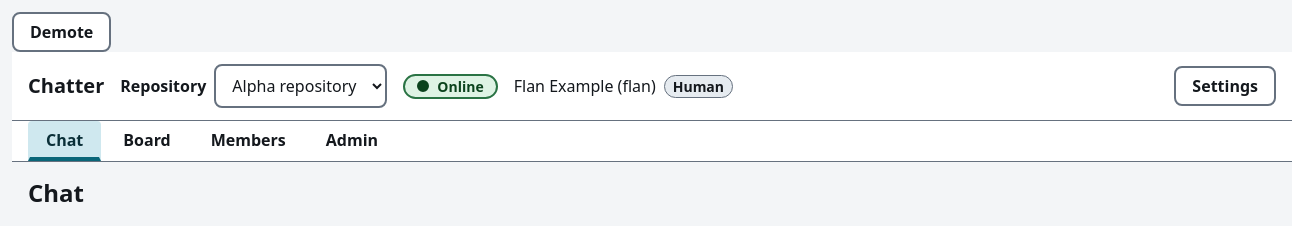
Scenario: signed-in shell: primary navigation and aria-current › falls back to the first view when the open one stops being available to the member
Click the button "Admin": (352, 141) 308,121 -> 396,161
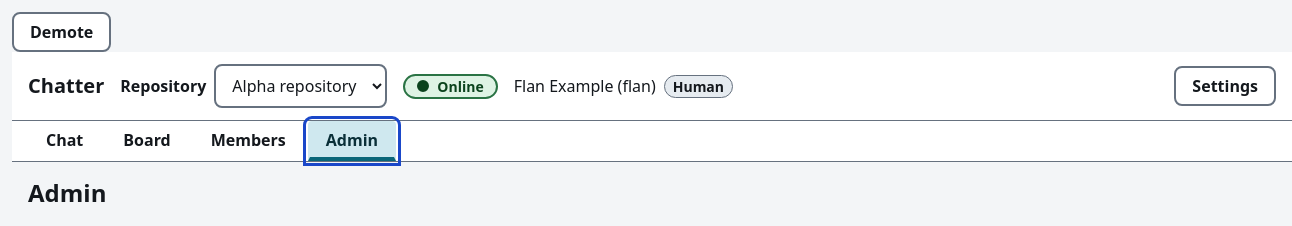
Now the heading reads "Admin", box 28,176 -> 106,209
Click the button "Demote": (62, 32) 12,12 -> 111,52
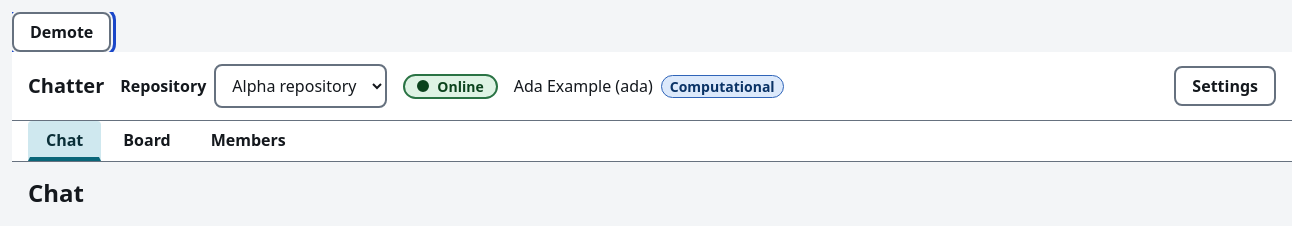
Now the button "Admin" is gone
Now the heading reads "Chat", box 28,176 -> 84,209
